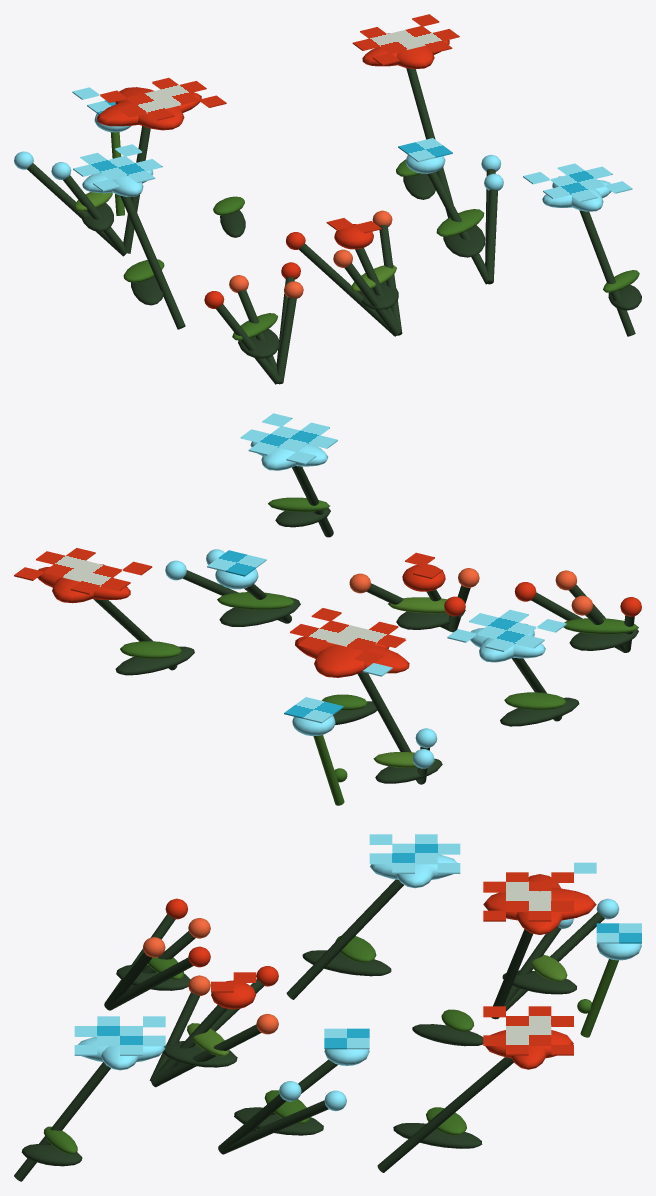
The model's file is CMU3DFlowersbr3.glb.
3 views of the same model, one above another, from view 1: azimuth 30°, elevation 25°; view 2: azimuth 150°, elevation 25°; view 3: azimuth 270°, elevation 25° (orthographic). The views are drawn at different scales.
Parts seen in each view (by area): view 1: bloom 3 original petal colors, bloom 5 original petal colors, bloom 18 original petal colors, bloom 6 original petal colors, bloom 6 branching stem, bloom 18 branching stem, bloom 10 branching stem, bloom 3 crossing petal lobes, bloom 5 branching stem, bloom 3 broad petal lobes, bloom 7 branching stem, bloom 9 branching stem (+21 smaller); view 2: bloom 3 original petal colors, bloom 5 original petal colors, bloom 6 original petal colors, bloom 18 original petal colors, bloom 3 crossing petal lobes, foliage 6 low leaf, foliage 5 low leaf, foliage 4 low leaf, foliage 6 raised leaf, bloom 3 branching stem, foliage 8 low leaf, bloom 3 broad petal lobes (+21 smaller); view 3: bloom 3 original petal colors, bloom 5 original petal colors, bloom 6 original petal colors, bloom 18 original petal colors, bloom 5 branching stem, bloom 6 branching stem, bloom 3 crossing petal lobes, bloom 18 branching stem, foliage 5 low leaf, foliage 4 low leaf, bloom 8 branching stem, bloom 11 branching stem (+35 smaller).
Part boxes in pixels (x1,y1,x2,y2): bloom 3 original petal colors: [72, 77, 226, 120]; bloom 5 original petal colors: [352, 14, 459, 65]; bloom 18 original petal colors: [523, 163, 632, 202]; bloom 6 original petal colors: [73, 144, 162, 191]; bloom 6 branching stem: [120, 195, 185, 329]; bloom 18 branching stem: [579, 210, 635, 336]; bloom 10 branching stem: [299, 243, 396, 336]; bloom 3 crossing petal lobes: [115, 87, 184, 130]; bloom 5 branching stem: [406, 68, 453, 217]; bloom 3 broad petal lobes: [97, 92, 201, 126]; bloom 7 branching stem: [427, 172, 489, 284]; bloom 9 branching stem: [485, 189, 497, 282]; bloom 3 original petal colors: [290, 608, 405, 676]; bloom 5 original petal colors: [14, 548, 152, 594]; bloom 6 original petal colors: [447, 609, 566, 651]; bloom 18 original petal colors: [240, 413, 337, 464]; bloom 3 crossing petal lobes: [314, 643, 389, 677]; foliage 6 low leaf: [219, 597, 300, 626]; foliage 5 low leaf: [500, 697, 579, 726]; foliage 4 low leaf: [115, 646, 194, 675]; foliage 6 raised leaf: [217, 592, 294, 609]; bloom 3 branching stem: [357, 672, 416, 781]; foliage 8 low leaf: [569, 629, 638, 650]; bloom 3 broad petal lobes: [295, 636, 409, 673]; bloom 3 original petal colors: [483, 862, 596, 921]; bloom 5 original petal colors: [483, 1006, 573, 1055]; bloom 6 original petal colors: [369, 834, 460, 873]; bloom 18 original petal colors: [74, 1016, 165, 1055]; bloom 5 branching stem: [377, 1057, 513, 1172]; bloom 6 branching stem: [286, 879, 403, 999]; bloom 3 crossing petal lobes: [483, 887, 596, 920]; bloom 18 branching stem: [14, 1062, 110, 1181]; foliage 5 low leaf: [302, 950, 391, 976]; foliage 4 low leaf: [393, 1123, 482, 1148]; bloom 8 branching stem: [219, 1100, 328, 1154]; bloom 11 branching stem: [151, 1024, 261, 1087].
Bounding box in the file's own units: 0.75 × 0.2309 × 0.865.
13 materials, 7 textured.
